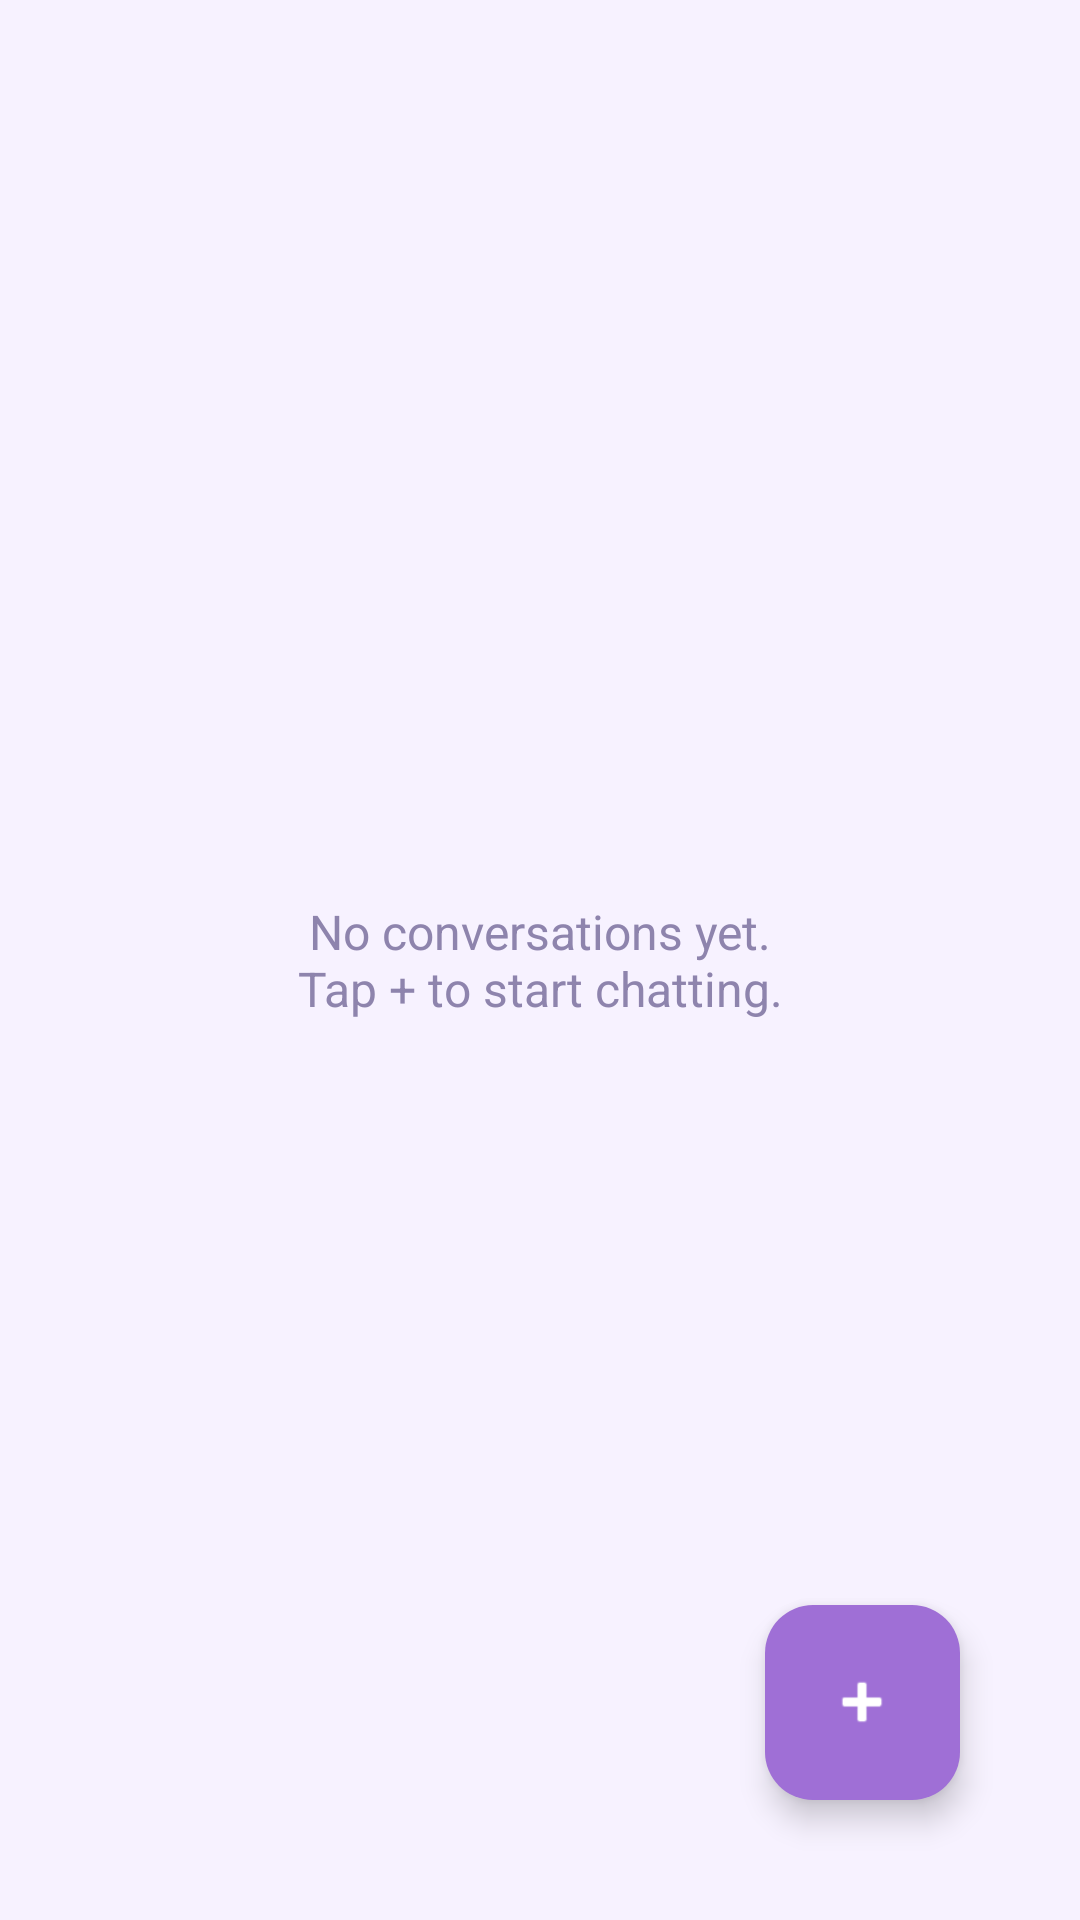

Where icons sit on this 1080 x 1920 app screen, as {"left": x1, "top": y1, "right": x2, "bottom": y2}:
New chat: {"left": 765, "top": 1605, "right": 960, "bottom": 1800}
